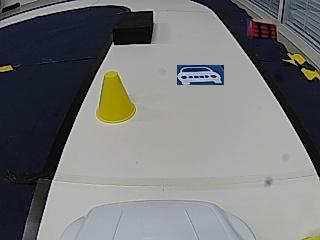block: (113, 10, 153, 44)
cone: (97, 72, 137, 124)
